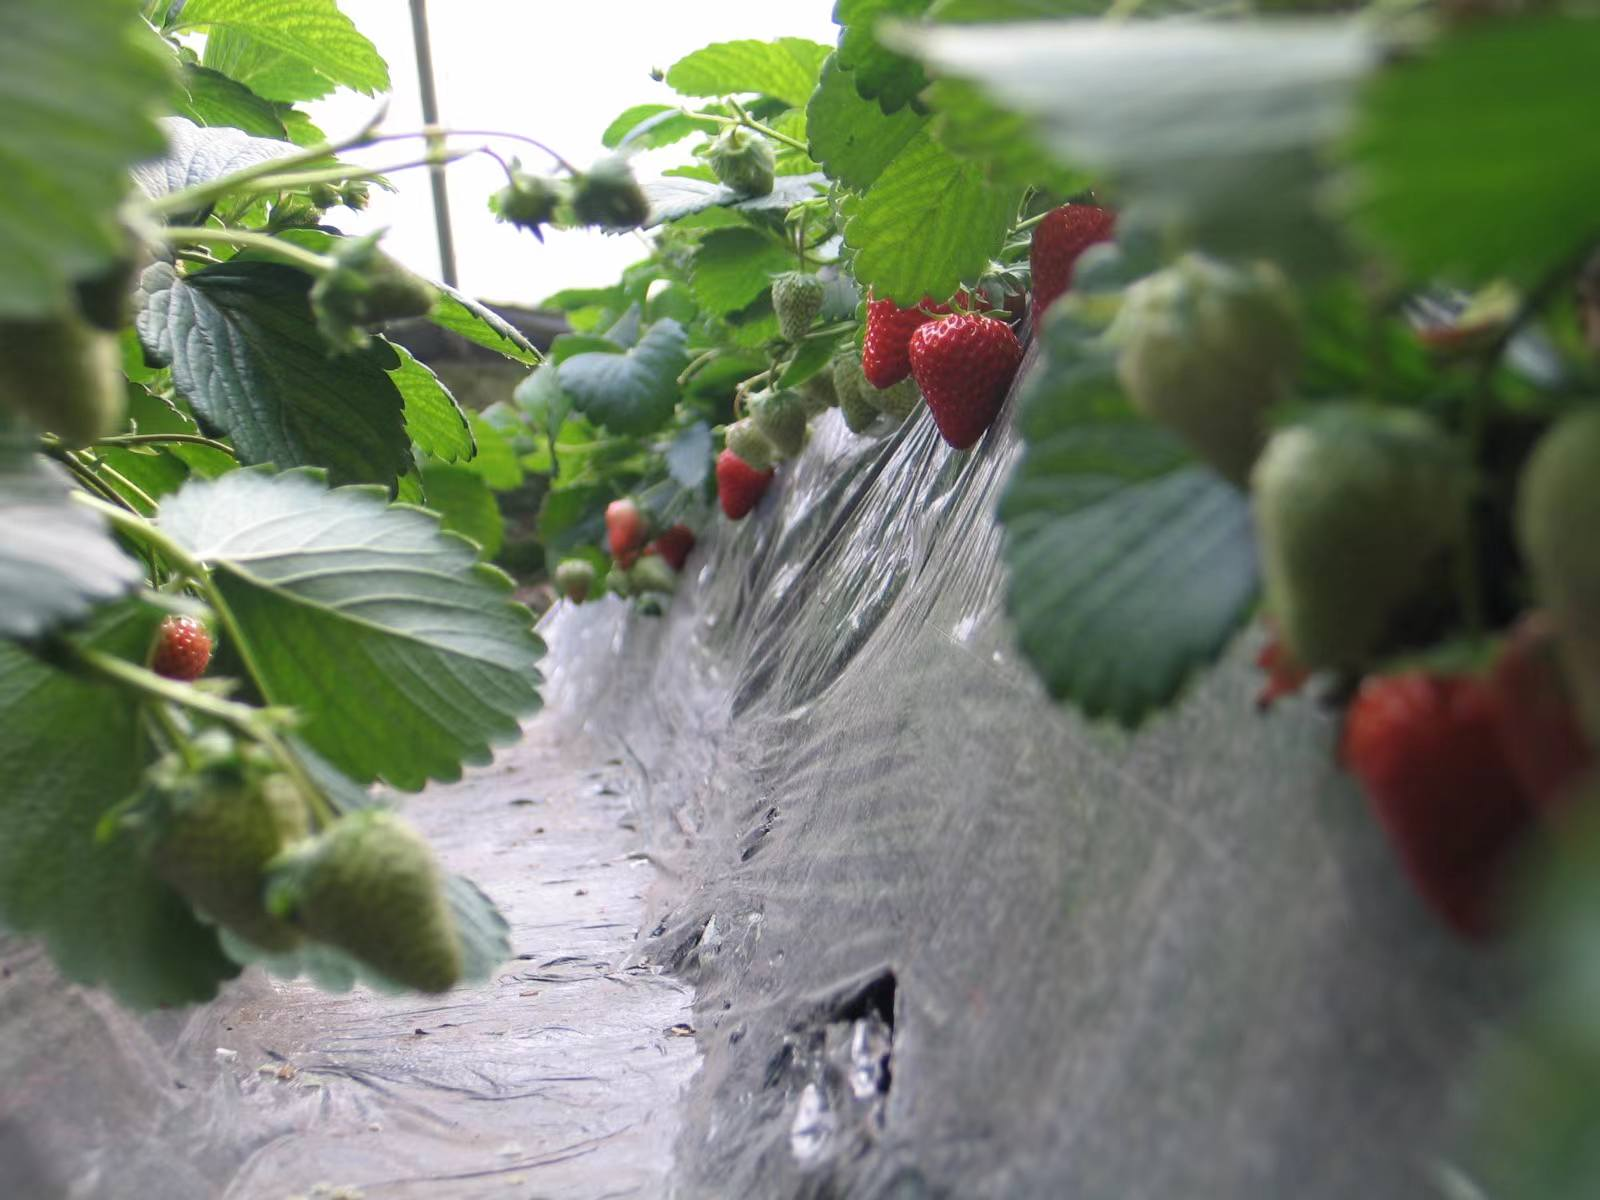StrawberryCone: (1337, 655, 1581, 954), (905, 310, 1019, 450), (704, 446, 787, 529)
StrawberryIrremovable: (1230, 405, 1484, 644), (1117, 262, 1310, 490), (144, 736, 323, 968), (312, 816, 459, 996), (9, 310, 129, 447), (304, 239, 435, 334), (593, 482, 699, 576), (129, 596, 223, 692), (568, 154, 654, 246), (746, 379, 820, 458), (707, 122, 781, 198), (820, 350, 879, 436), (767, 272, 823, 342), (551, 548, 596, 610)
StrawberryOther: (1013, 190, 1131, 334), (850, 270, 971, 392)
StrawberryRemovable: (1335, 658, 1579, 954), (1015, 192, 1128, 332), (907, 310, 1013, 447), (857, 270, 969, 389), (708, 454, 782, 522)
